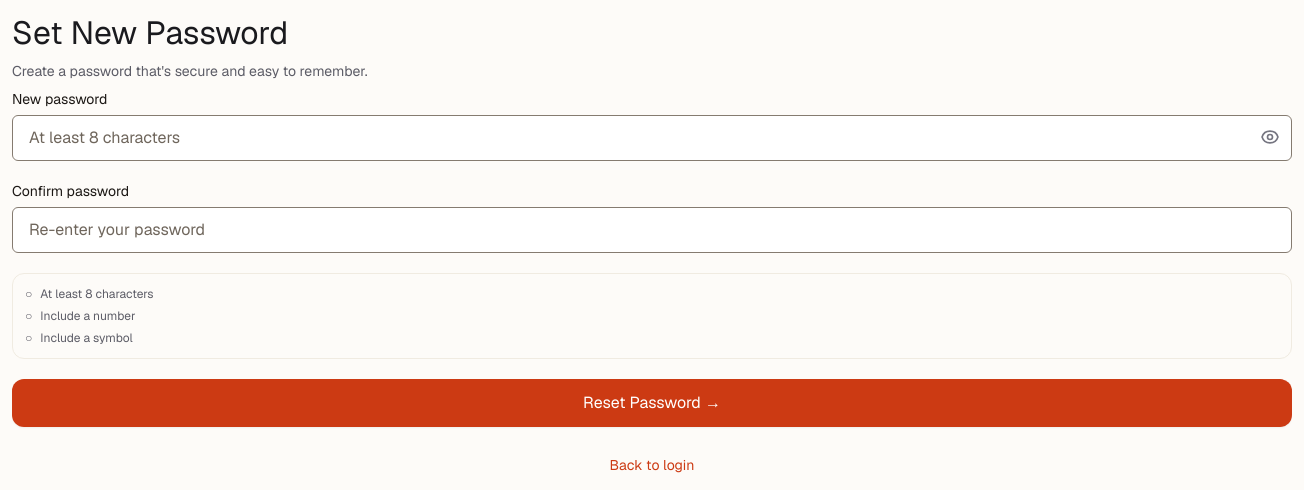
Test case: ResetPasswordForm › submits valid new password and displays success message
Type "Password123!" into the password field labelled "New password" at {"x": 652, "y": 138}, box 12,115 -> 1292,161
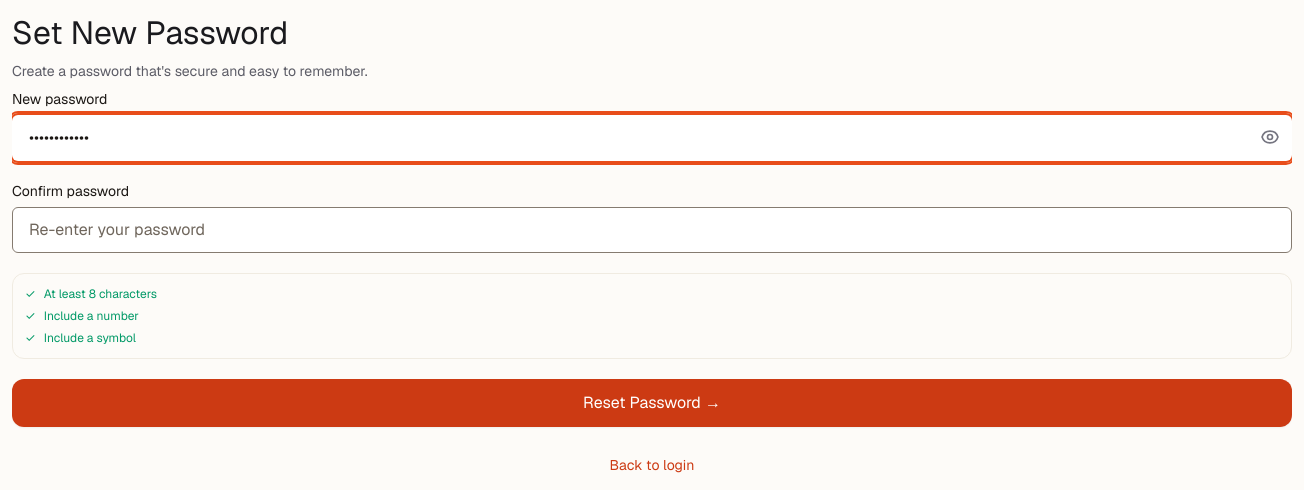
Type "Password123!" into the password field labelled "Confirm password" at {"x": 652, "y": 230}, box 12,207 -> 1292,253
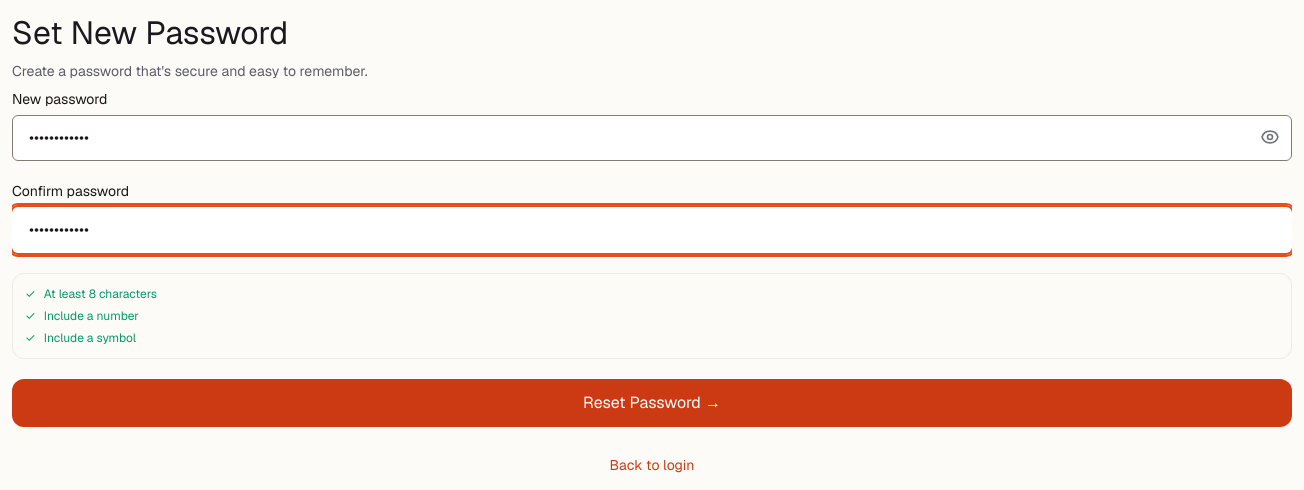
Click the button "Reset Password →" at {"x": 652, "y": 403}, box 12,379 -> 1292,427
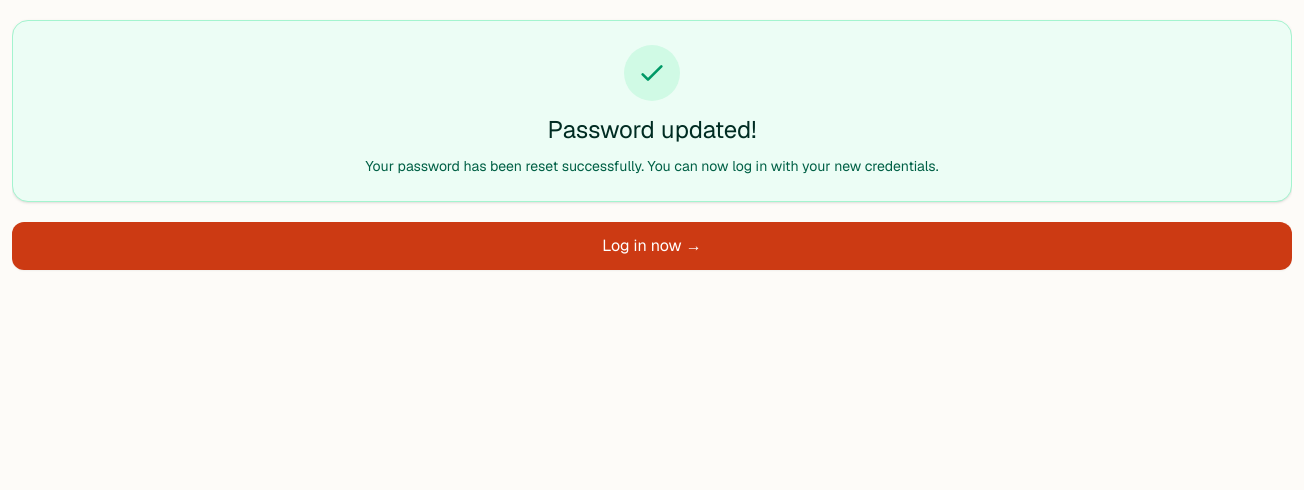
Result: the heading "Password updated!" is shown at 548,114 -> 756,145
